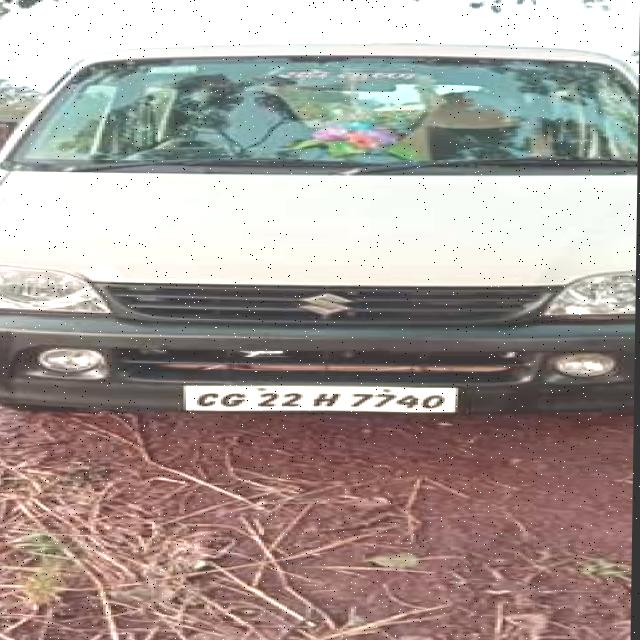plate: (182, 384, 462, 415)
